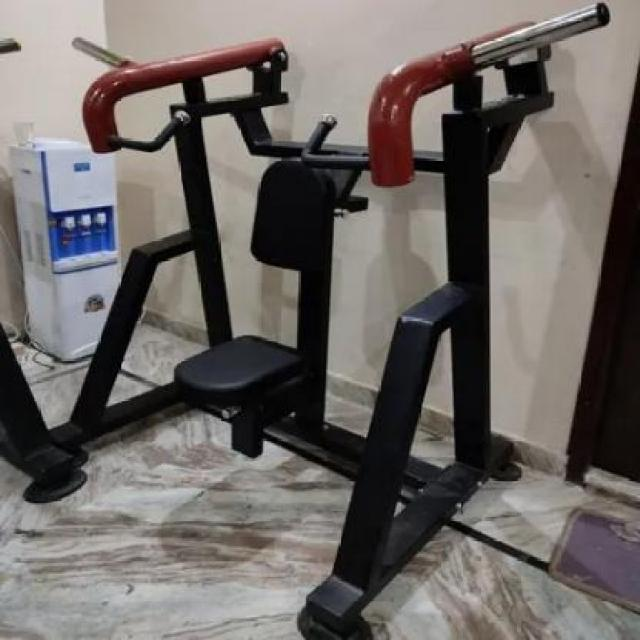shoulder press machine: (72, 6, 612, 589)
